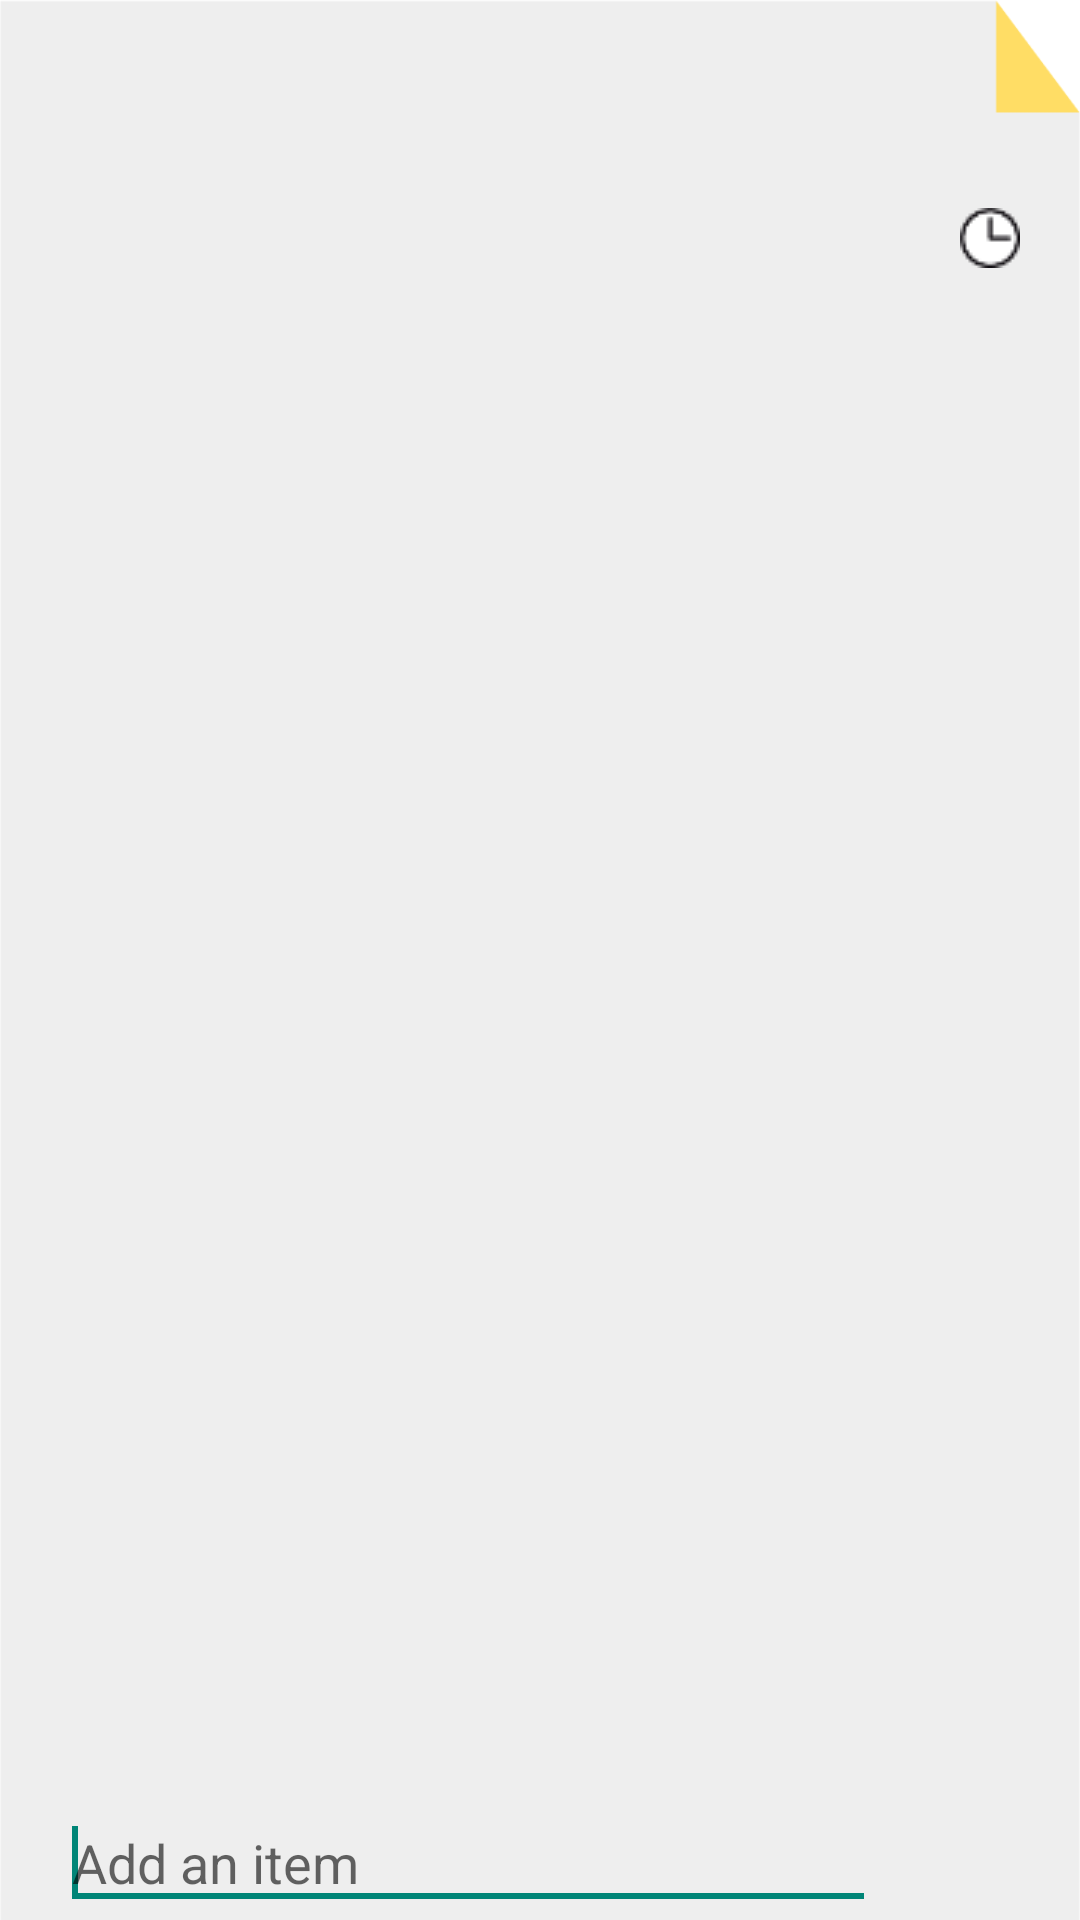

Icons on this 1080x1920 Android screen, each with the point to tap as point (x, y):
Time left: point (990, 238)
